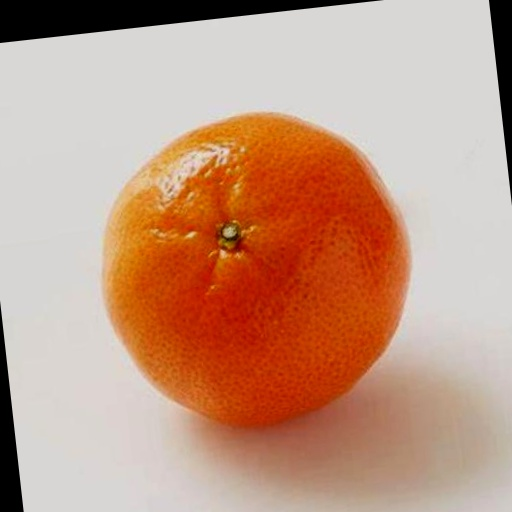fruit: (103, 113, 409, 426)
